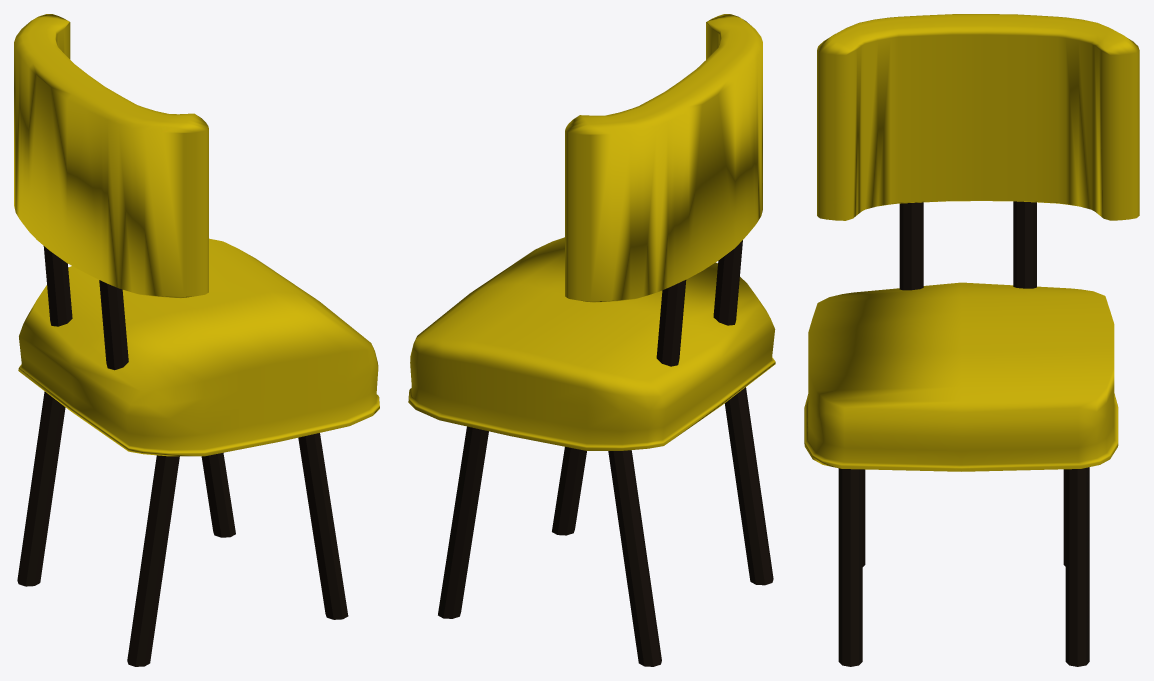
Rendered from navajo_chair.fbx.
The picture shows the model from 3 angles, left to right: view 1: azimuth 30°, elevation 25°; view 2: azimuth 150°, elevation 25°; view 3: azimuth 270°, elevation 25°; orthographic projection.
Parts seen in each view (by area): view 1: polySurface28; view 2: polySurface28; view 3: polySurface28.
Boxes of the visible parts, x1,y1,x2,y2 form: polySurface28: [14, 14, 379, 666]; polySurface28: [408, 14, 775, 666]; polySurface28: [804, 14, 1139, 666].
Bounding box in the file's own units: 4.81 × 9.38 × 5.24.
